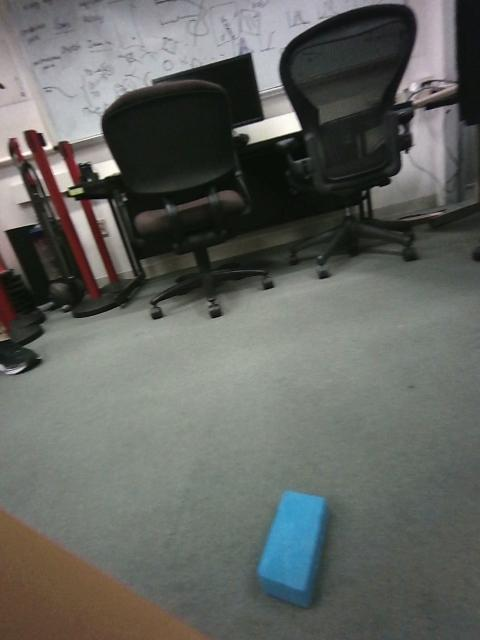block: (355, 308, 411, 356)
